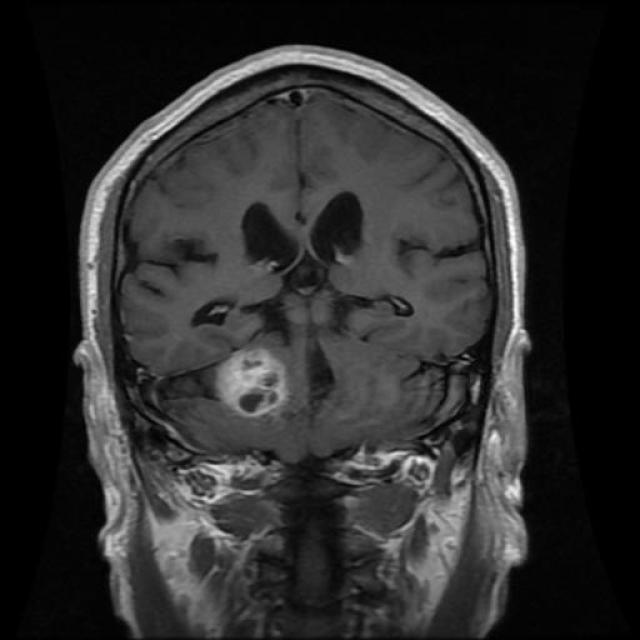meningioma: (218, 349, 286, 418)
